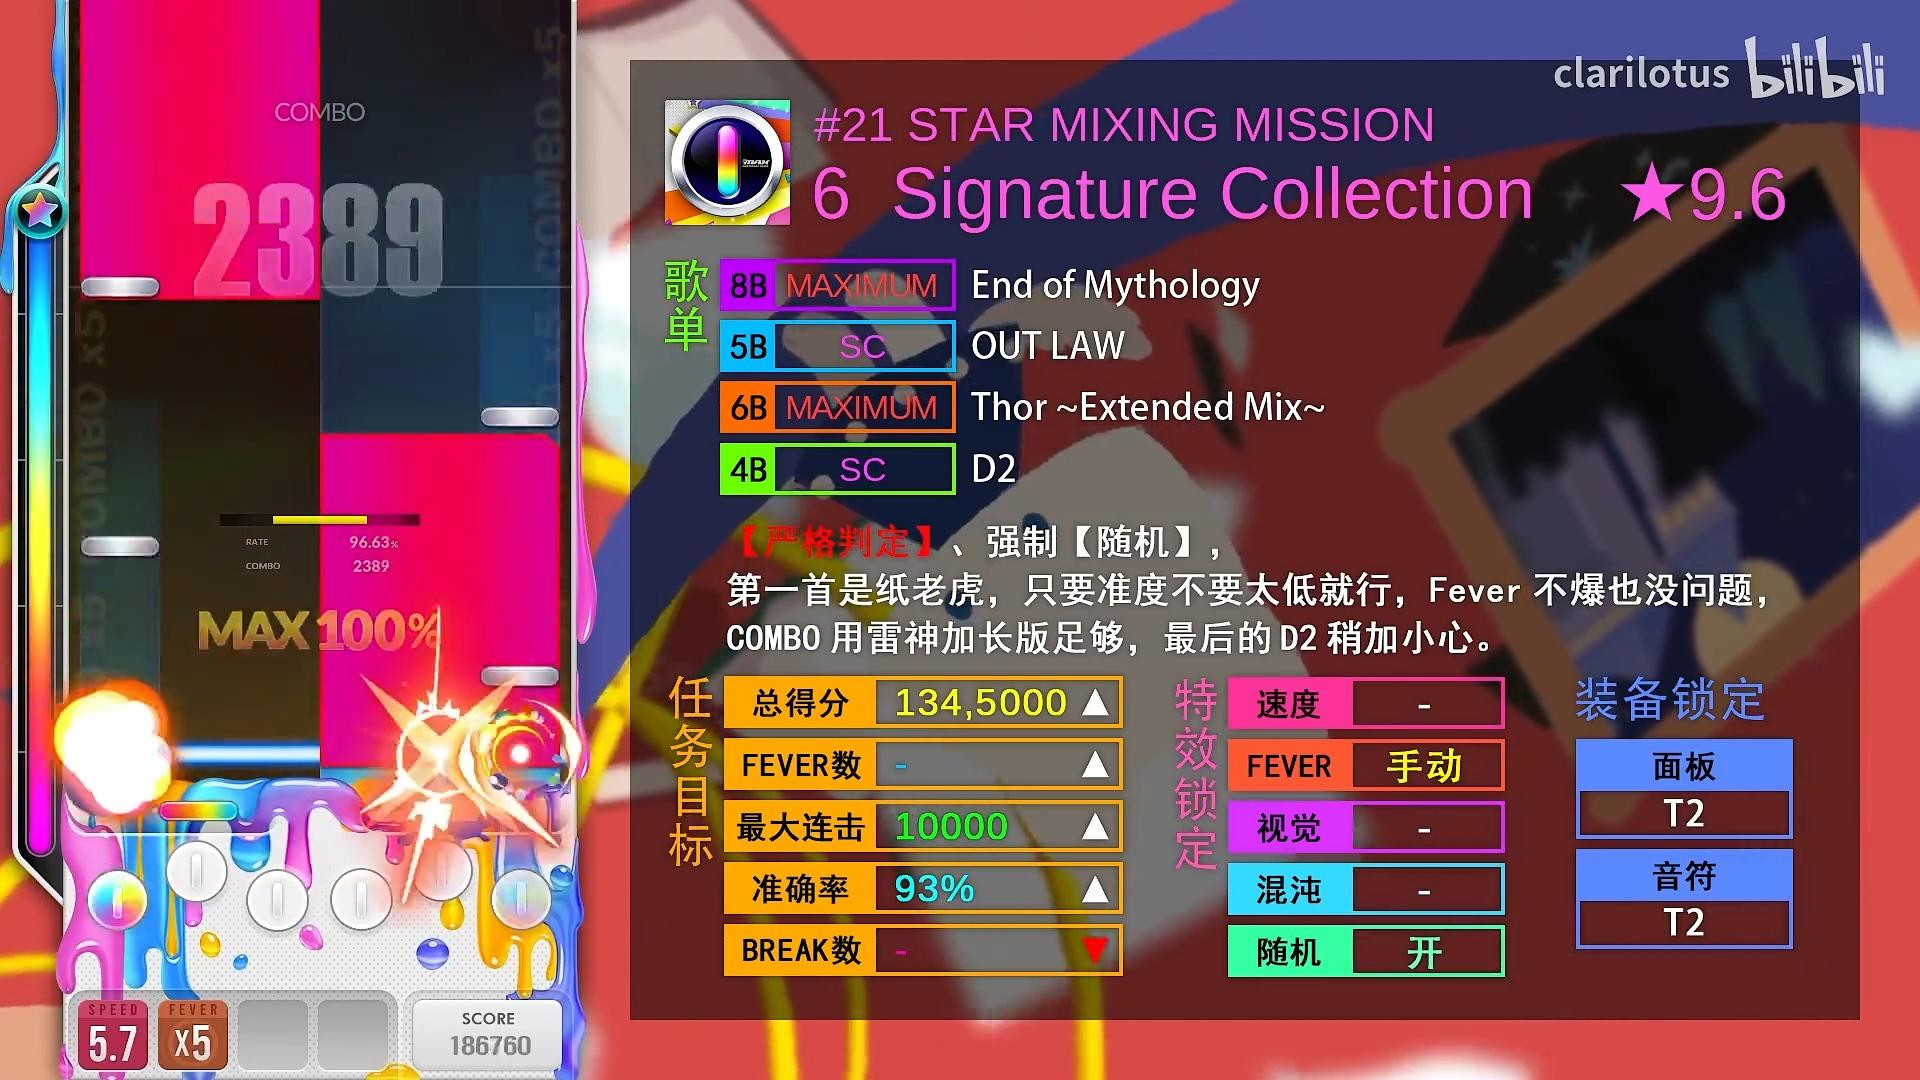note: (479, 663, 559, 688), (79, 535, 160, 558), (80, 276, 161, 298), (481, 406, 559, 427)
xend: (319, 434, 560, 454)
xstart: (79, 273, 323, 299)
